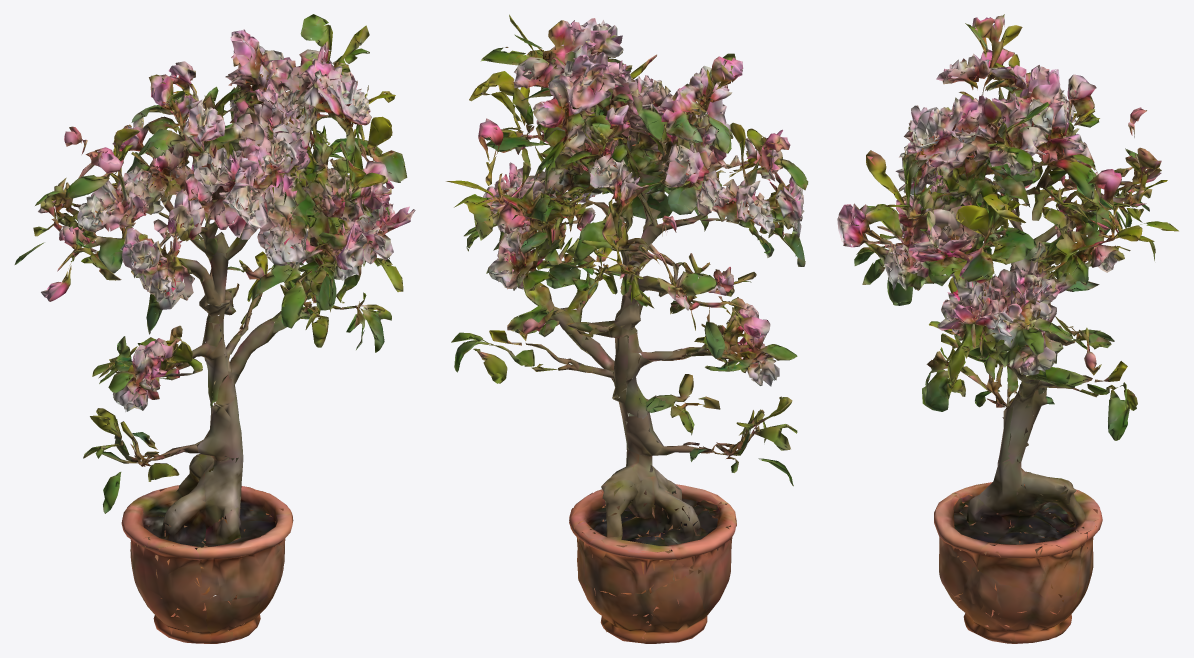
The model's file is crab_apple_royal_beauty_-_garden.glb.
3 views of the same model, side by side, from view 1: azimuth 30°, elevation 25°; view 2: azimuth 150°, elevation 25°; view 3: azimuth 270°, elevation 25° (orthographic).
Parts seen in each view (by area): view 1: Object_4; view 2: Object_4; view 3: Object_4.
Part boxes in pixels (left/top/right/bottom): Object_4: left=14, top=14, right=415, bottom=643; Object_4: left=446, top=14, right=808, bottom=643; Object_4: left=837, top=14, right=1178, bottom=643.
Bounding box in the file's own units: 1.21 × 2 × 1.07.
Materials: 1 (1 with a texture image).
